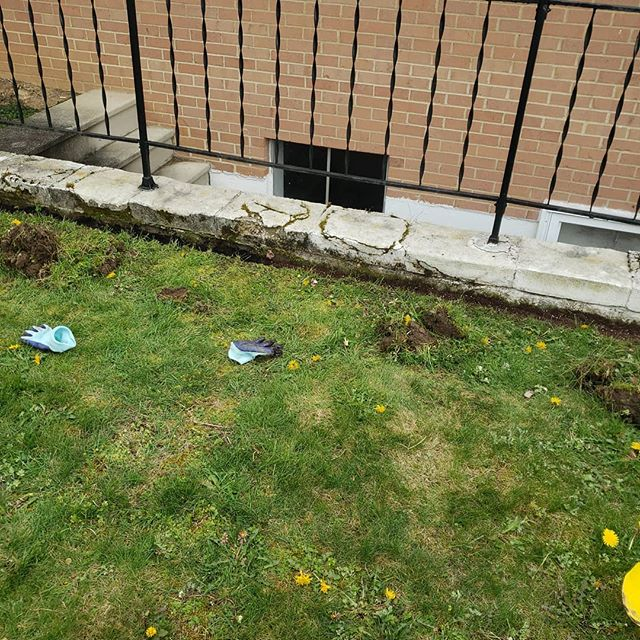glove: (8, 306, 80, 361), (211, 322, 283, 377)
grass: (18, 246, 640, 640)
